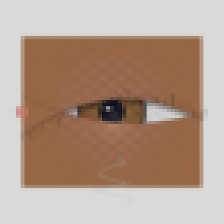foreign_body_visible: (105, 79, 128, 97)
